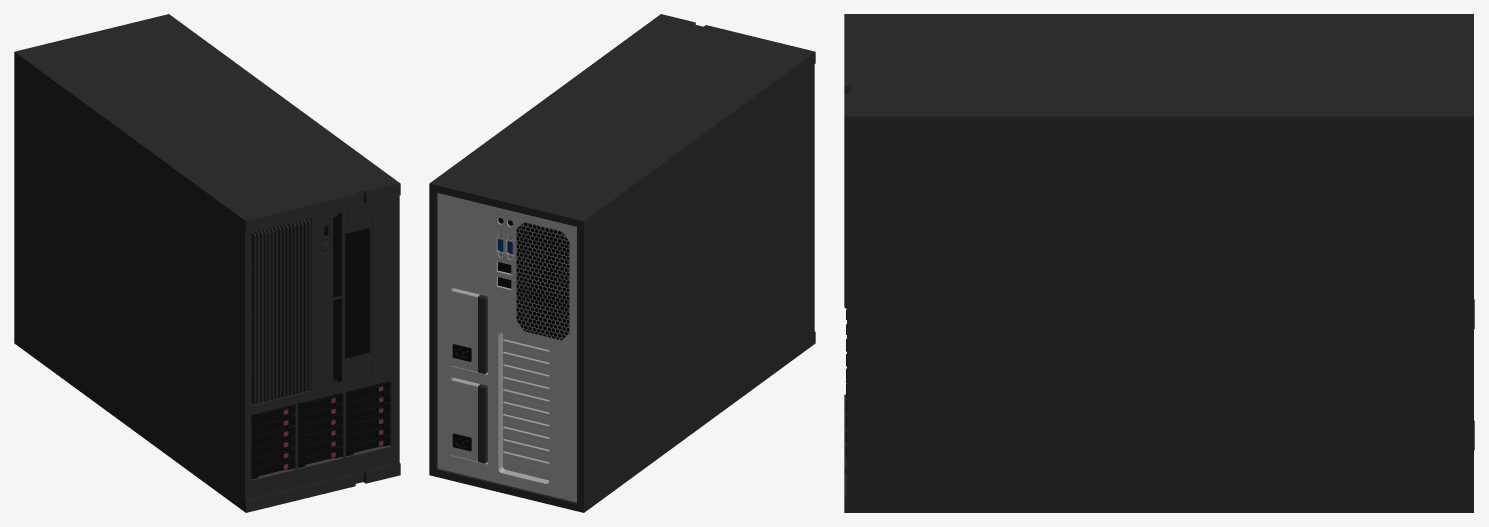
3 views of the same model, side by side, from view 1: azimuth 30°, elevation 25°; view 2: azimuth 150°, elevation 25°; view 3: azimuth 270°, elevation 25° (orthographic). The views are drawn at different scales.
Visible parts, largest first — view 1: HPE_ML570 G3; view 2: HPE_ML570 G3; view 3: HPE_ML570 G3.
Boxes of the visible parts, bbox=[...] form: HPE_ML570 G3: bbox=[14, 14, 400, 512]; HPE_ML570 G3: bbox=[429, 14, 815, 512]; HPE_ML570 G3: bbox=[844, 14, 1474, 512].
Size of the model in its own units: 111 by 200 by 288.
10 materials, 1 textured.
